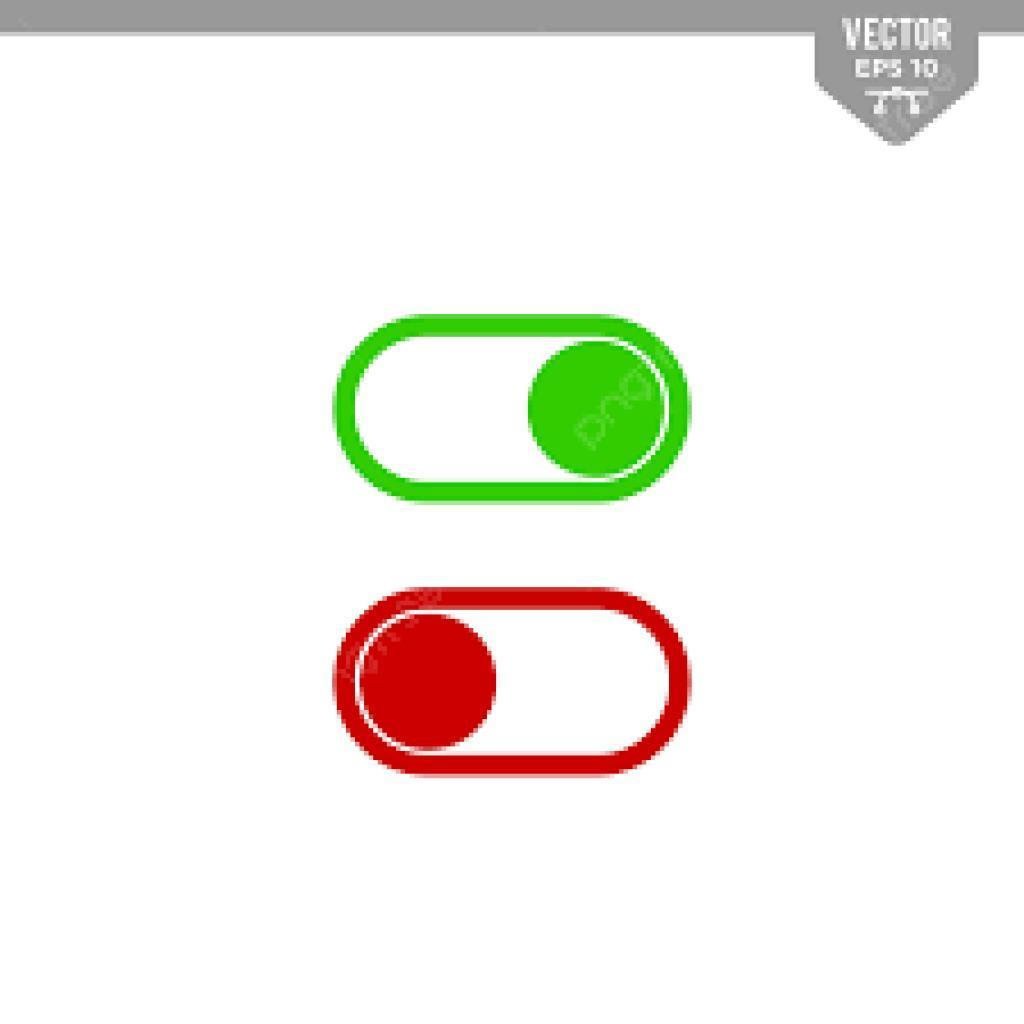switch: (333, 585, 691, 779), (330, 315, 693, 502)
